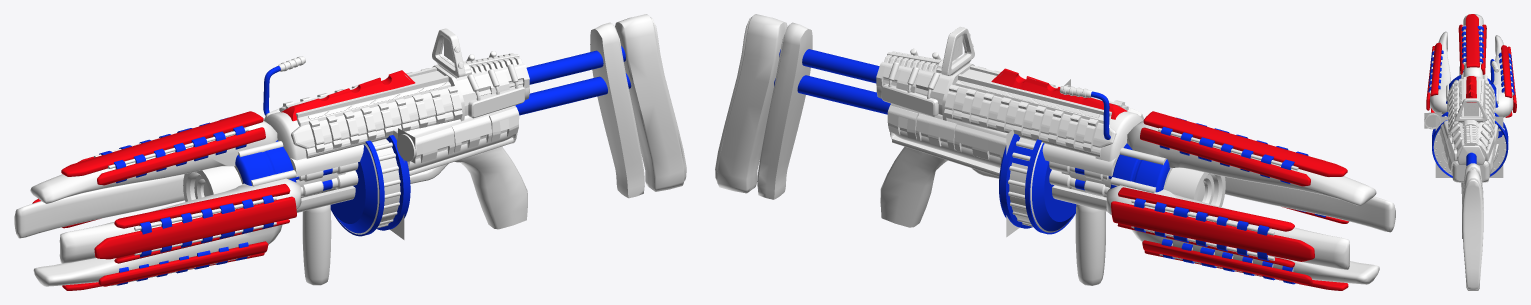
File: Weapon_Retopo_4.fbx
The picture shows the model from 3 angles, left to right: view 1: azimuth 30°, elevation 25°; view 2: azimuth 150°, elevation 25°; view 3: azimuth 270°, elevation 25°; orthographic projection. The views are drawn at different scales.
Visible parts, largest first — view 1: Empty, shoulder, 6, magazine, grip, aim, 8, handle, 5, downsight, sight, 2 (+8 smaller); view 2: Empty, shoulder, 6, magazine, grip, aim, 8, handle, 5, sight, downsight, 2 (+7 smaller); view 3: Empty, shoulder, magazine, sight, 6, grip, 8, Plane.000, topsight, Plane.002, 2, pipes (+15 smaller).
Part boxes in pixels (bbox=[...]): Empty: bbox=[14, 111, 301, 290]; shoulder: bbox=[515, 14, 686, 198]; 6: bbox=[264, 67, 459, 158]; magazine: bbox=[330, 134, 416, 236]; grip: bbox=[409, 133, 527, 229]; aim: bbox=[183, 111, 345, 201]; 8: bbox=[407, 107, 519, 166]; handle: bbox=[302, 205, 331, 285]; 5: bbox=[290, 144, 363, 212]; downsight: bbox=[281, 70, 444, 121]; sight: bbox=[432, 28, 522, 78]; 2: bbox=[456, 56, 529, 105]; Empty: bbox=[1106, 111, 1395, 290]; shoulder: bbox=[715, 14, 890, 199]; 6: bbox=[947, 65, 1143, 156]; magazine: bbox=[999, 85, 1076, 234]; grip: bbox=[880, 132, 1000, 227]; aim: bbox=[1061, 111, 1225, 206]; 8: bbox=[887, 105, 1006, 161]; handle: bbox=[1075, 204, 1105, 285]; 5: bbox=[1042, 144, 1116, 211]; sight: bbox=[884, 26, 974, 75]; downsight: bbox=[962, 68, 1127, 119]; 2: bbox=[876, 54, 950, 104]; Empty: bbox=[1426, 14, 1516, 117]; shoulder: bbox=[1462, 152, 1483, 290]; magazine: bbox=[1424, 112, 1508, 177]; sight: bbox=[1455, 98, 1487, 145]; 6: bbox=[1450, 77, 1492, 127]; grip: bbox=[1452, 144, 1498, 238]; 8: bbox=[1440, 124, 1498, 175]; Plane.000: bbox=[1435, 116, 1503, 177]; topsight: bbox=[1449, 121, 1492, 164]; Plane.002: bbox=[1424, 103, 1478, 128]; 2: bbox=[1451, 122, 1490, 156]; pipes: bbox=[1449, 124, 1492, 150].
Bounding box in the file's own units: 297 × 95.87 × 61.78.
4 materials, 1 textured.
